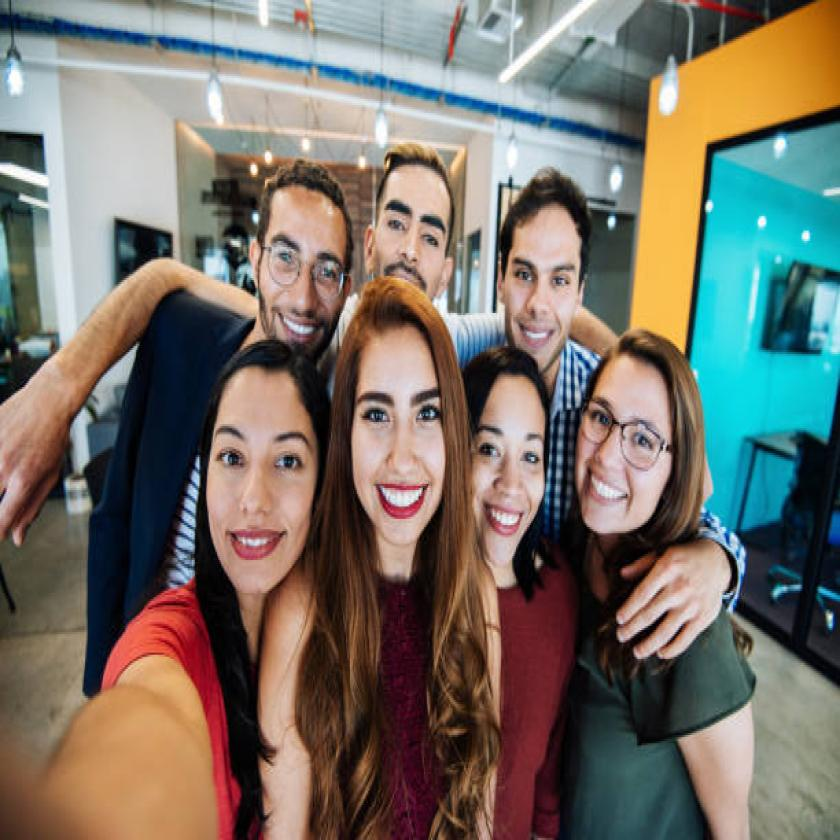Sin_casco: (568, 300, 732, 575), (329, 278, 468, 598), (199, 330, 341, 611), (354, 110, 483, 302), (252, 135, 358, 355), (496, 162, 586, 368), (468, 346, 545, 577)
